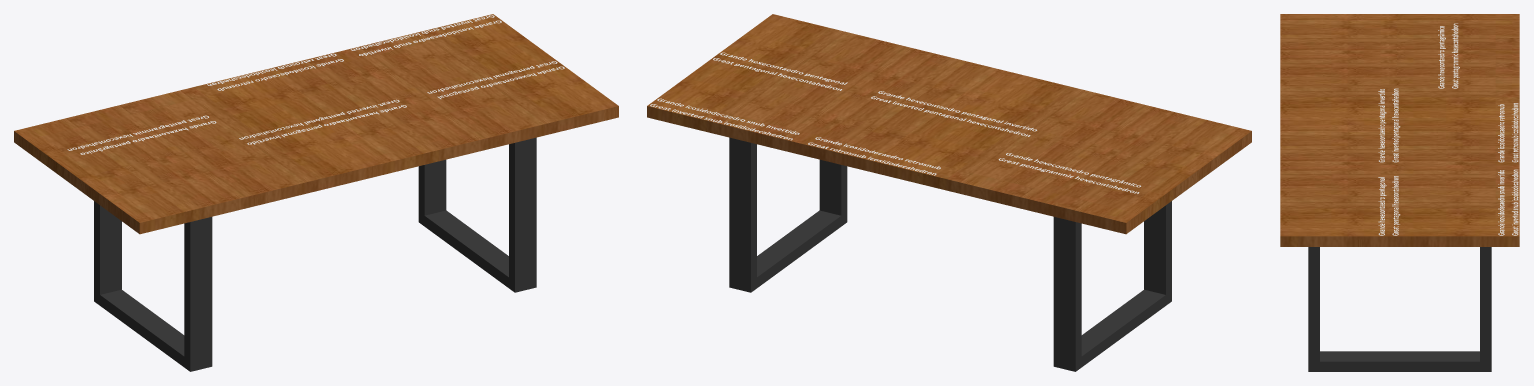
File: selfinterSnubTrunc2.glb
The picture shows the model from 3 angles, left to right: view 1: azimuth 30°, elevation 25°; view 2: azimuth 150°, elevation 25°; view 3: azimuth 270°, elevation 25°; orthographic projection. The views are drawn at different scales.
Visible parts, largest first — view 1: object 1, Composant#1 (×2), Grande hexeconta#1, Grande icosidode, Grande hexeconta#2, Grande hexeconta, Grande icosidode#1; view 2: object 1, Composant#1 (×2), Grande hexeconta#1, Grande icosidode, Grande hexeconta#2, Grande hexeconta, Grande icosidode#1; view 3: object 1, Composant#1, Grande hexeconta#1, Grande icosidode, Grande hexeconta#2, Grande hexeconta, Grande icosidode#1.
Part boxes in pixels (box(x1,y1,x2,y2)): object 1: box(14, 14, 618, 234); Composant#1 (×2): box(94, 137, 536, 371); Grande hexeconta#1: box(239, 99, 406, 144); Grande icosidode: box(350, 15, 501, 55); Grande hexeconta#2: box(67, 115, 216, 154); Grande hexeconta: box(427, 61, 564, 98); Grande icosidode#1: box(207, 53, 343, 90); object 1: box(647, 14, 1251, 234); Composant#1 (×2): box(729, 137, 1171, 371); Grande hexeconta#1: box(871, 91, 1036, 136); Grande icosidode: box(650, 98, 799, 140); Grande hexeconta#2: box(998, 153, 1140, 193); Grande hexeconta: box(713, 52, 847, 90); Grande icosidode#1: box(808, 137, 940, 175); object 1: box(1280, 14, 1519, 246); Composant#1: box(1308, 247, 1491, 371); Grande hexeconta#1: box(1378, 88, 1400, 162); Grande icosidode: box(1498, 169, 1518, 235); Grande hexeconta#2: box(1438, 23, 1459, 88); Grande hexeconta: box(1378, 176, 1400, 235); Grande icosidode#1: box(1498, 103, 1518, 162).
Size of the model in its own units: 2.2 by 0.771 by 1.
3 materials, 1 textured.
